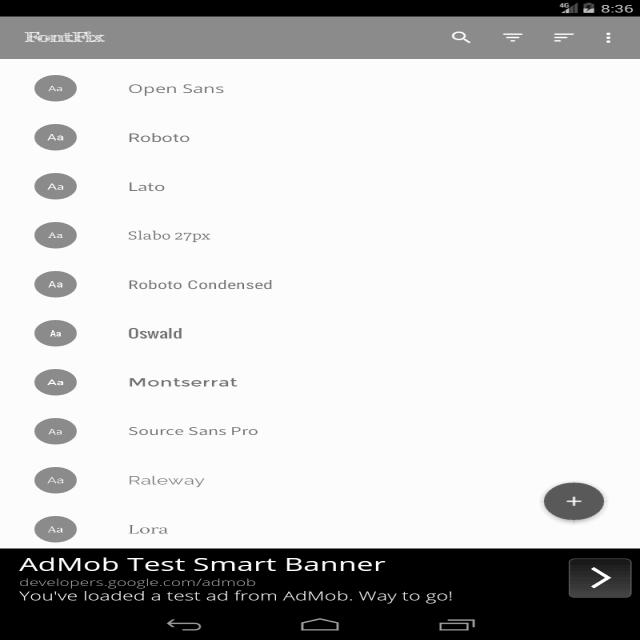ImageButton: (536, 484, 616, 520), (578, 560, 628, 592), (547, 28, 587, 48), (451, 26, 483, 48), (494, 31, 534, 47), (596, 26, 625, 48)
ImageView: (34, 68, 88, 104), (30, 222, 91, 250), (32, 462, 81, 496), (35, 120, 84, 152), (34, 318, 80, 348), (33, 272, 82, 300), (32, 371, 82, 395), (33, 418, 82, 442), (37, 514, 79, 542), (33, 177, 80, 199)
TextView: (17, 552, 459, 604), (120, 274, 278, 296), (117, 366, 250, 392), (14, 28, 126, 50), (126, 80, 235, 102), (119, 470, 231, 490), (124, 227, 232, 245), (122, 324, 218, 344), (120, 133, 206, 155), (122, 424, 271, 436), (117, 178, 175, 202), (117, 522, 180, 538)
